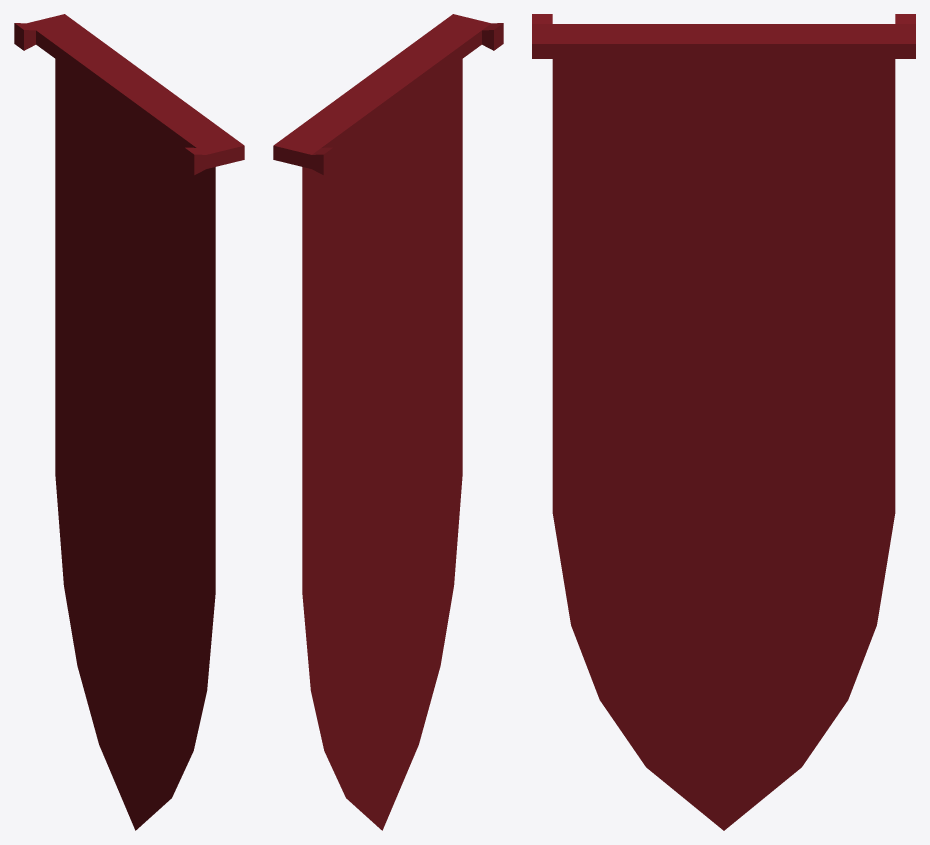
Rendered from Banner(OneMat).fbx.
3 renders of one model, left to right at view 1: azimuth 30°, elevation 25°; view 2: azimuth 150°, elevation 25°; view 3: azimuth 270°, elevation 25°, orthographic. The views are drawn at different scales.
Visible parts, largest first — view 1: Banner(OneMat); view 2: Banner(OneMat); view 3: Banner(OneMat).
Boxes of the visible parts, x1=… form: Banner(OneMat): x1=14, y1=14, x2=244, y2=830; Banner(OneMat): x1=273, y1=14, x2=503, y2=830; Banner(OneMat): x1=532, y1=14, x2=915, y2=830.
Bounding box in the file's own units: 0.3629 × 5.15 × 2.24.
